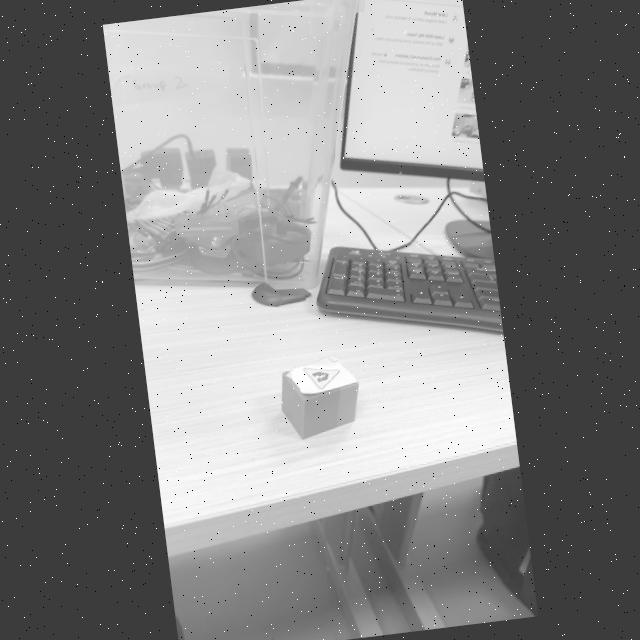Earthquake: (304, 367, 340, 388)
